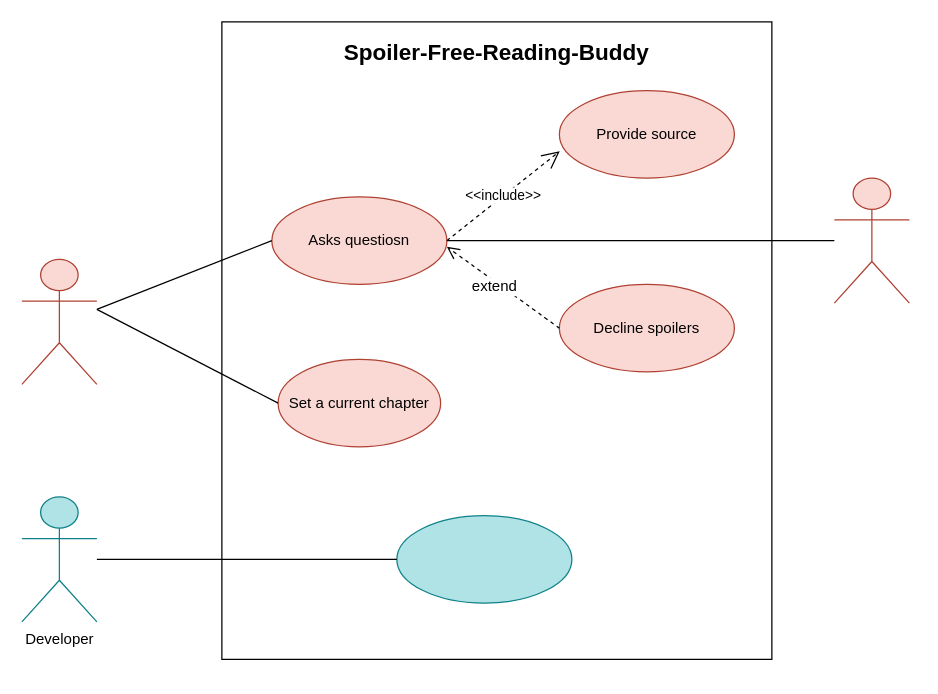
The diagram is 938 pixels wide and 694 high, and some of its shapes have lost their labels. The shapes that lost their labels are listed below. From the top down, each one's centre as x and y in pixels, then its label:
At point (871, 240): "LLM Provider".
At point (59, 321): "User".
At point (484, 558): "Load Book".
